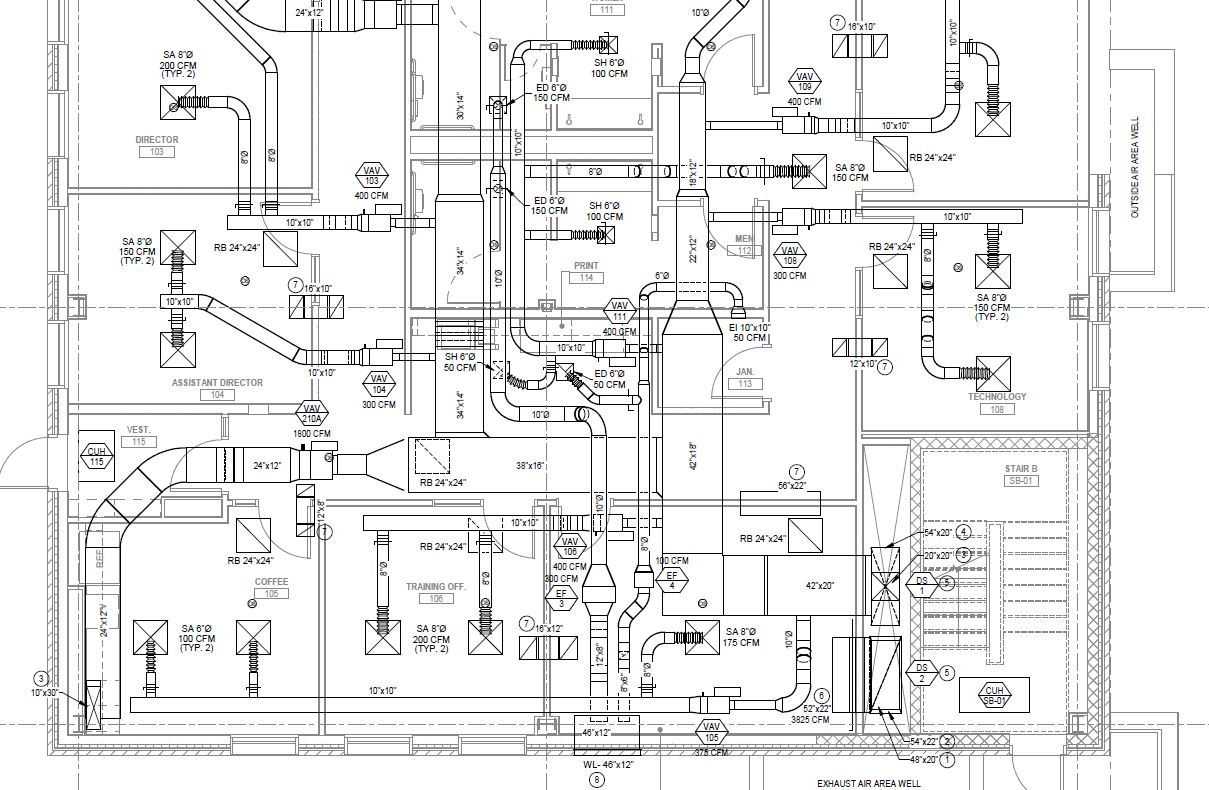VAV Box: (297, 431, 349, 488), (352, 193, 405, 240), (764, 99, 823, 141), (764, 200, 825, 240), (587, 327, 639, 373), (690, 675, 747, 716), (582, 503, 636, 543), (361, 332, 412, 373)
